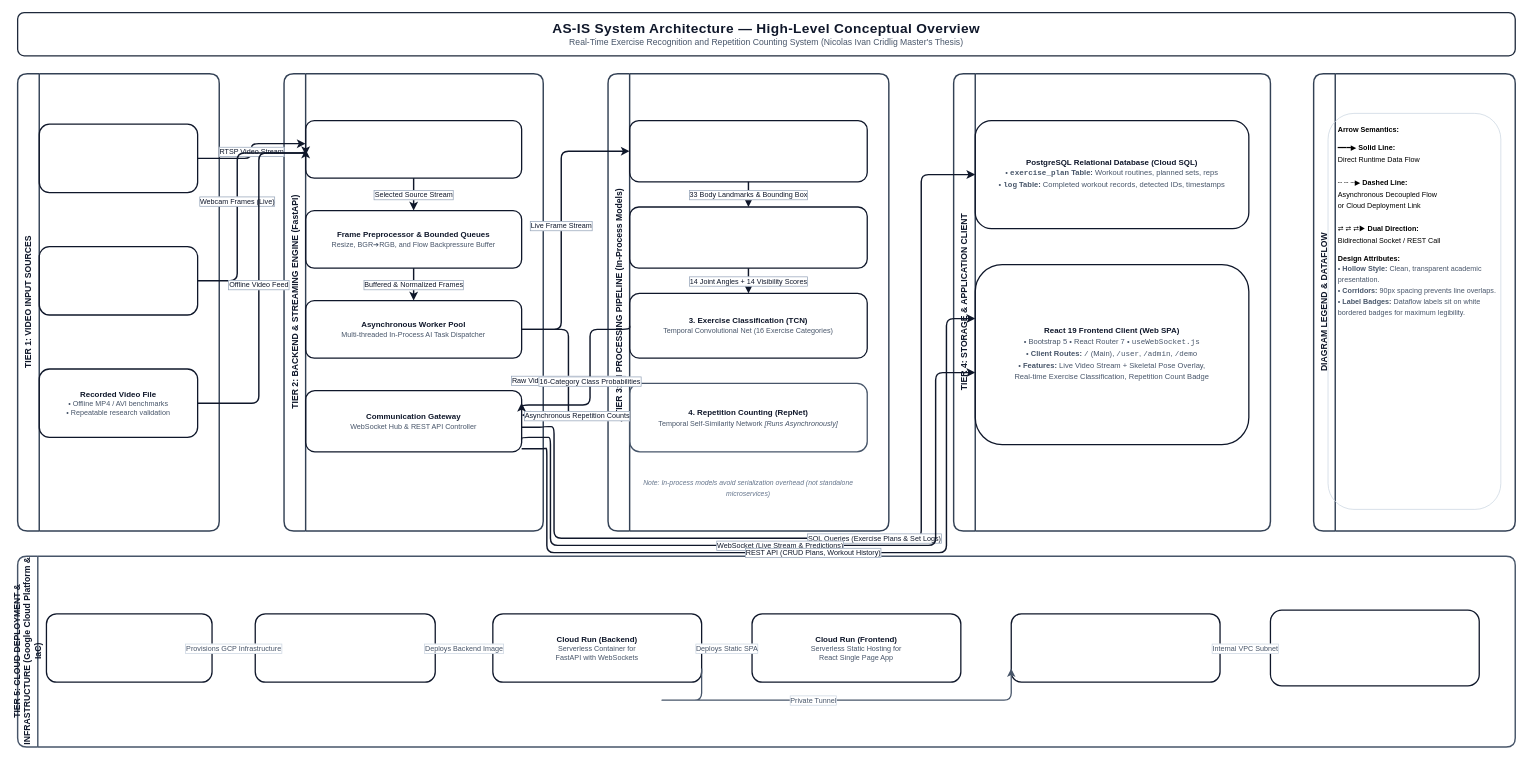
Image size: 1529x760. Some labels were removed from this diagram. The centre of each missing label's shape, as x and y in pixels:
"1. Pose Estimation (MediaPipe) Extracts 33 3D Keypoints & Bounding Box" belongs at (748,151).
"2. Feature Engineering Computes 14 Joint Angles & 14 Visibility Scores" belongs at (748,237).
"Browser Webcam • Athlete personal user device • HTML5 getUserMedia live feed" belongs at (118,280).
"Cloud SQL (PostgreSQL) Fully Managed Private DB Isolated from Public Internet" belongs at (1374,647).
"Docker Containers Multi-stage Images for FastAPI & React Frontend" belongs at (345,647).
"RTSP IP Camera • Fixed ceiling/wall gym surveillance • Monocular H.264 RTSP feed" belongs at (118,158).
"Serverless VPC Connector Private IP Internal Tunnel Subnet Interconnect" belongs at (1115,647).
"Terraform (IaC) Declarative HCL Scripts Cloud Provisioning" belongs at (128,647).
"Video Source Factory Adapter Selection & Ingestion Lifecycle" belongs at (413,149).
